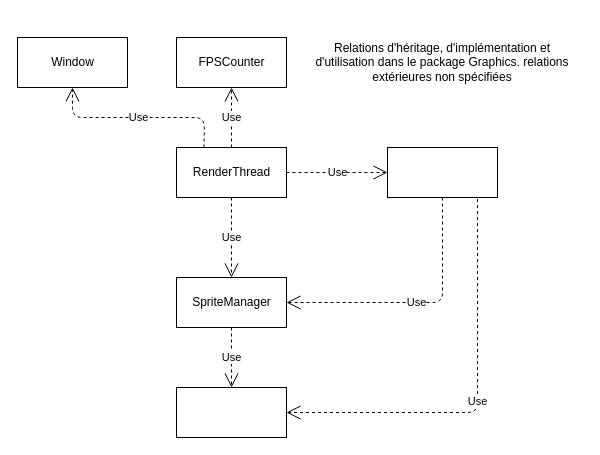
The diagram is 600 pixels wide and 455 high, and some of its shapes have lost their labels. Here are the shapes that lost their labels. From the top down, the box of each, then its label:
(386, 146, 498, 198): RenderPanel
(176, 386, 286, 438): Sprite
